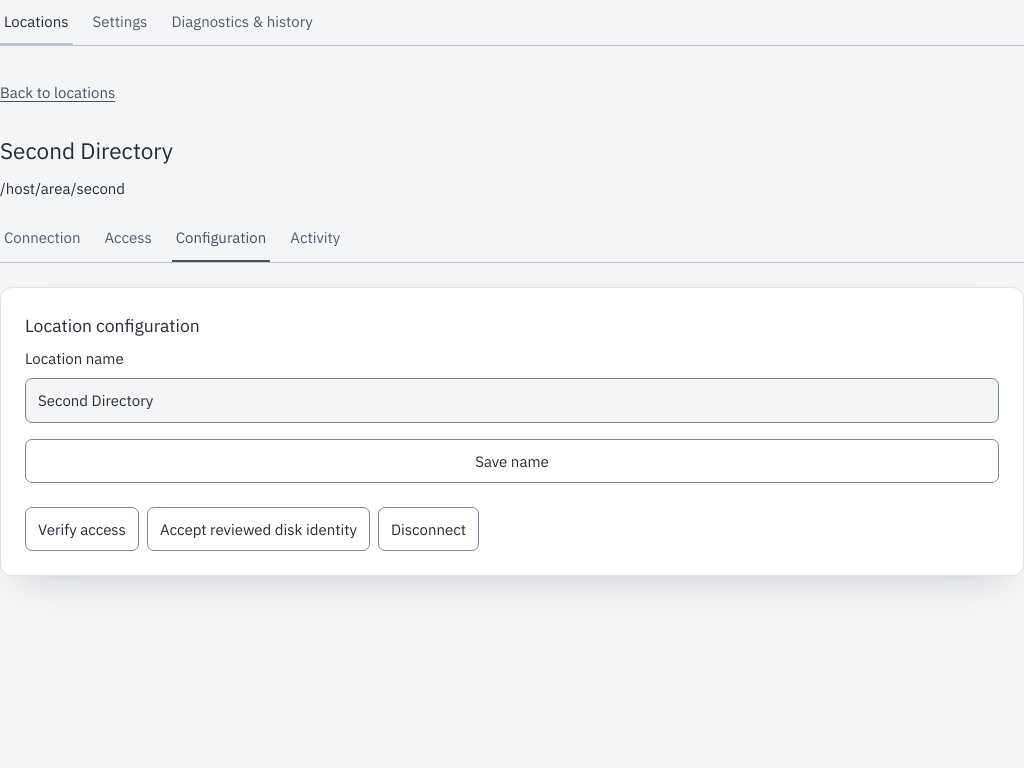
Test: failed confirmation stays available for retry
Click the button "Accept reviewed disk identity": (258, 529) [147,507,370,551]
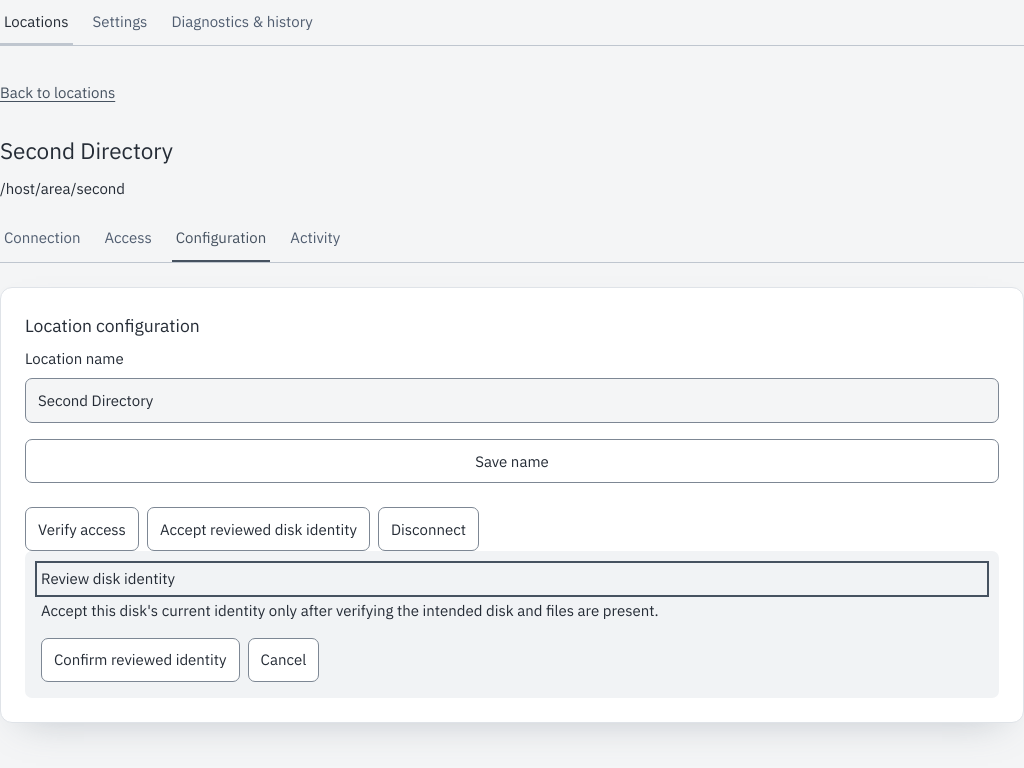
Click the button "Confirm reviewed identity": (140, 660) [41,638,240,682]
(page scrolled)
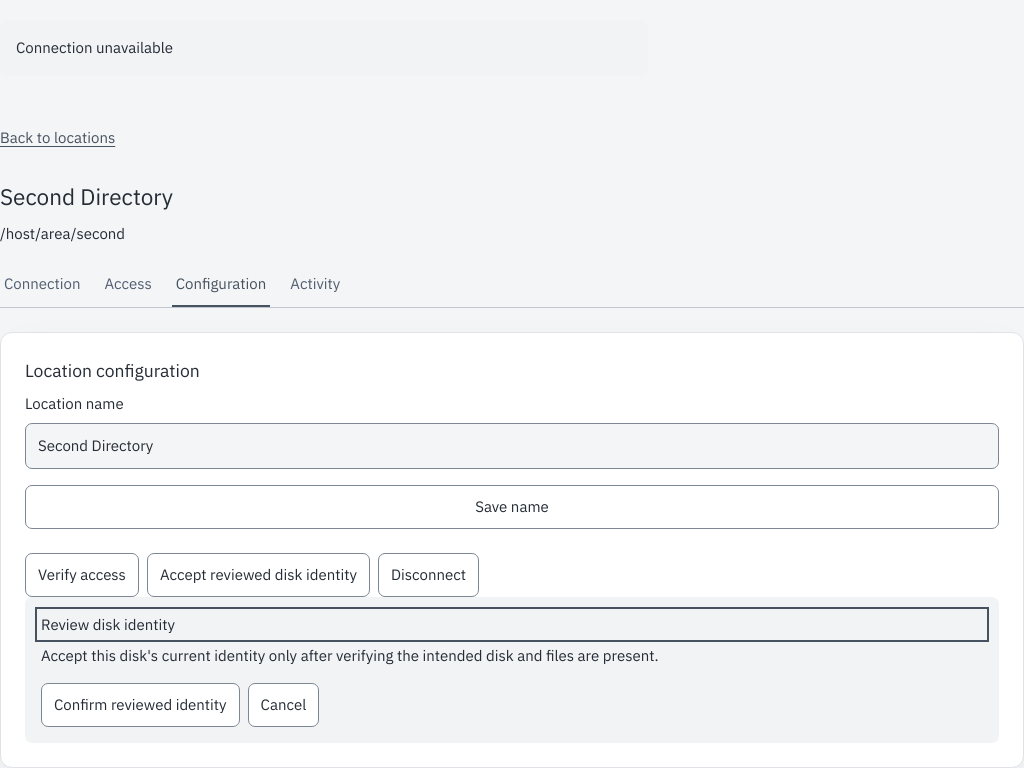
Expected: the button "Confirm reviewed identity" is enabled, [41,683,240,727]
Expected: the text "Connection unavailable" is shown, [0,20,648,76]
